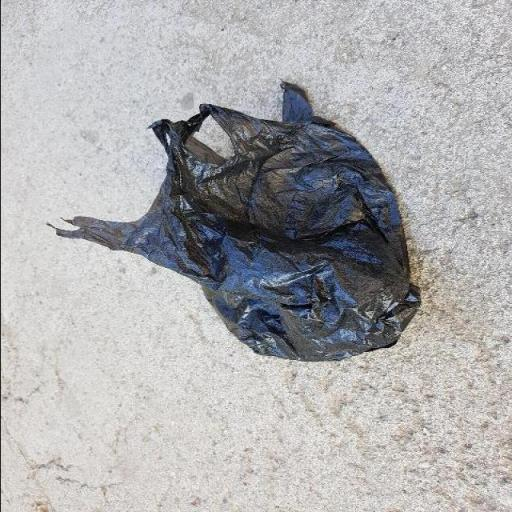plastic-bag: (46, 76, 427, 364)
